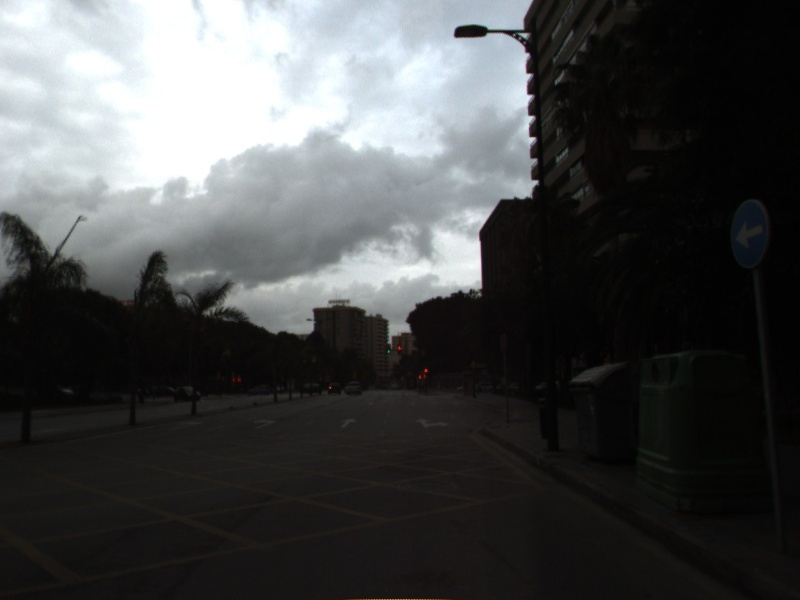LEFT: (167, 418, 205, 432), (252, 417, 279, 431)
STRAIGHT: (338, 416, 359, 430)
STRAIGHT_RIGHT: (413, 415, 452, 430)
